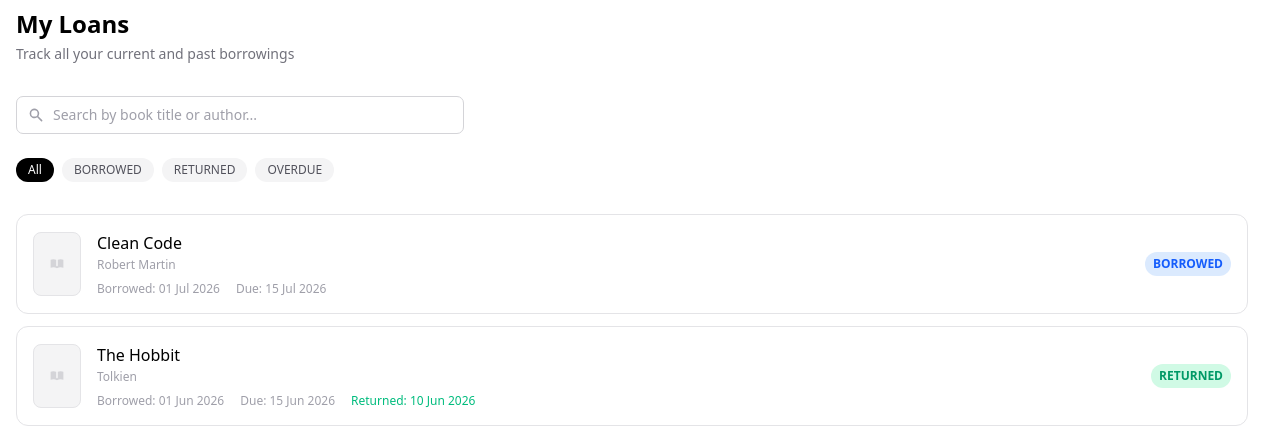
LoansClient component › should search loans by book title
Type "Clean" into the field with placeholder "Search by book title or author..." at (240, 115), box [16, 96, 464, 134]
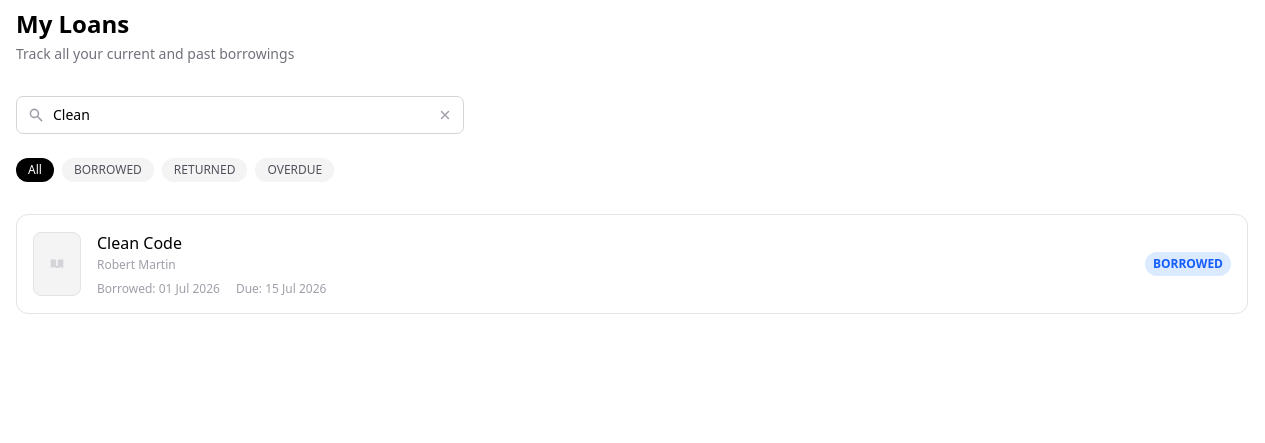
Expected: the text "Clean Code" is shown, [97, 232, 182, 254]
Expected: the text "The Hobbit" is gone
